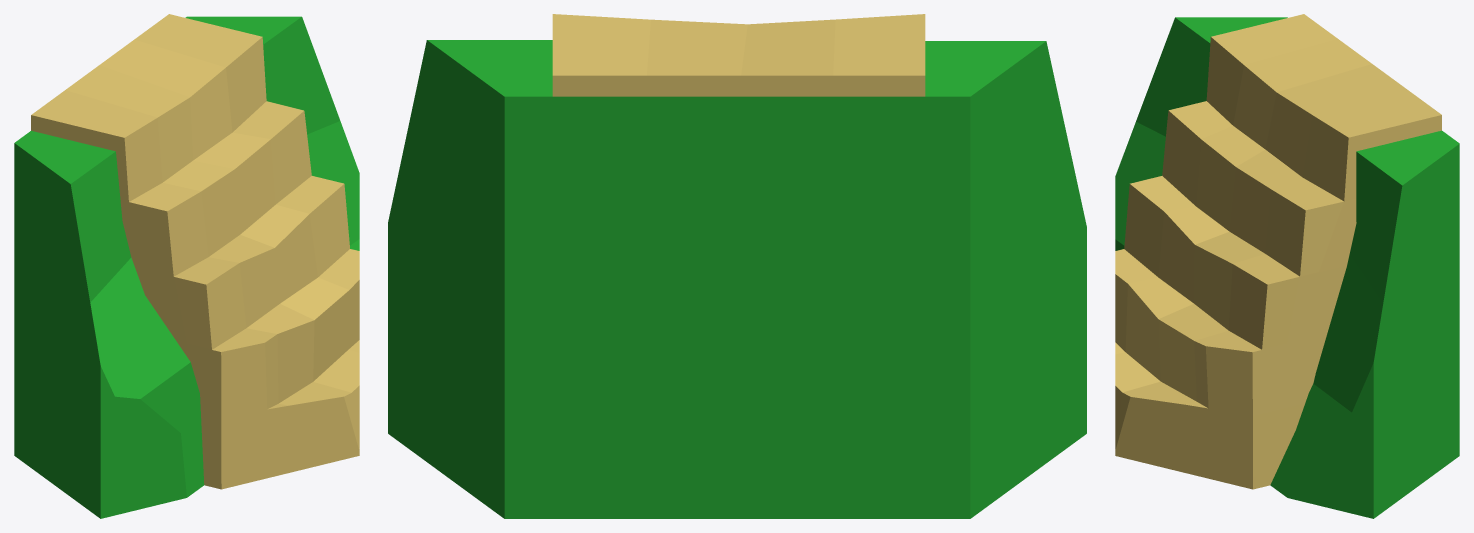
File: module-corner_land_cliff_small_stairs_001.glb
3 renders of one model, left to right at view 1: azimuth 30°, elevation 25°; view 2: azimuth 150°, elevation 25°; view 3: azimuth 270°, elevation 25°, orthographic. The views are drawn at different scales.
Visible parts, largest first — view 1: module-corner_land_cliff_small_stairs_001; view 2: module-corner_land_cliff_small_stairs_001; view 3: module-corner_land_cliff_small_stairs_001.
Part boxes in pixels (x1,y1,x2,y2): module-corner_land_cliff_small_stairs_001: [14, 14, 359, 518]; module-corner_land_cliff_small_stairs_001: [388, 14, 1086, 518]; module-corner_land_cliff_small_stairs_001: [1115, 14, 1459, 518].
Bounding box in the file's own units: 0.6495 × 0.525 × 0.5.
